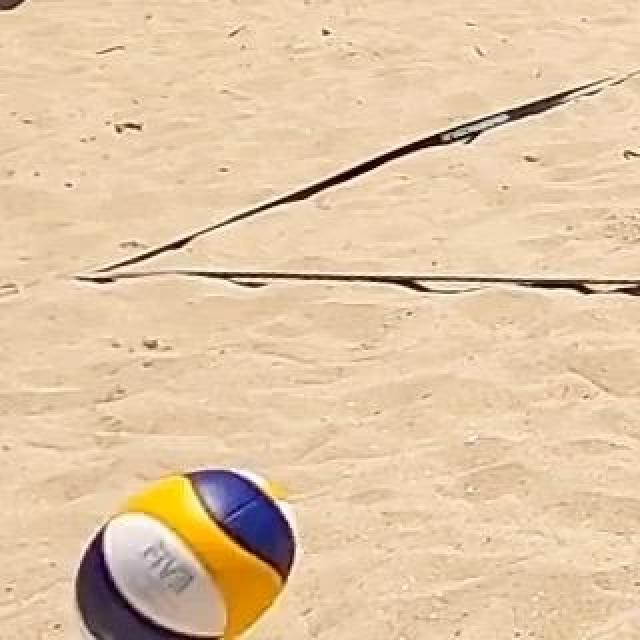volleyball: (74, 466, 296, 640)
